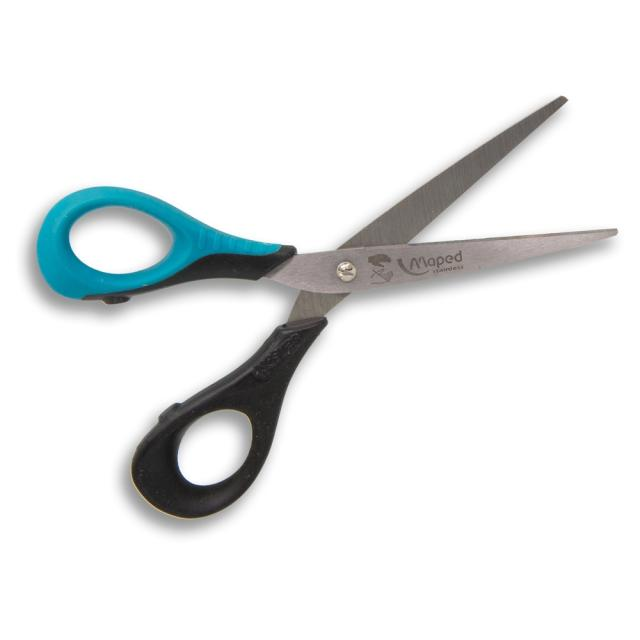scissor: (30, 90, 624, 522)
